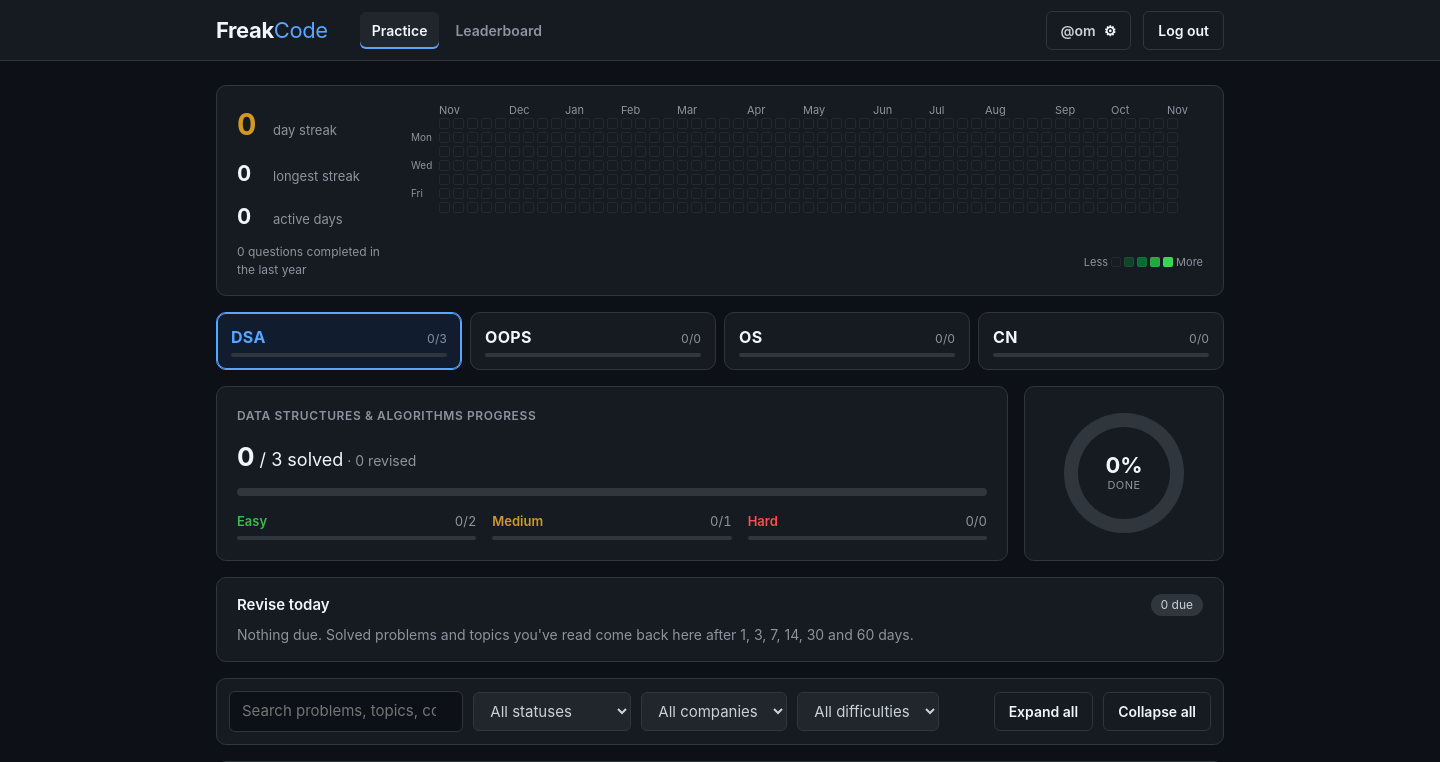
it: search narrows the list and expands matching topics
In the search field with placeholder "Search problems, topics, companies…": [346, 711] box [229, 691, 463, 732], type "apple"
(page scrolled)
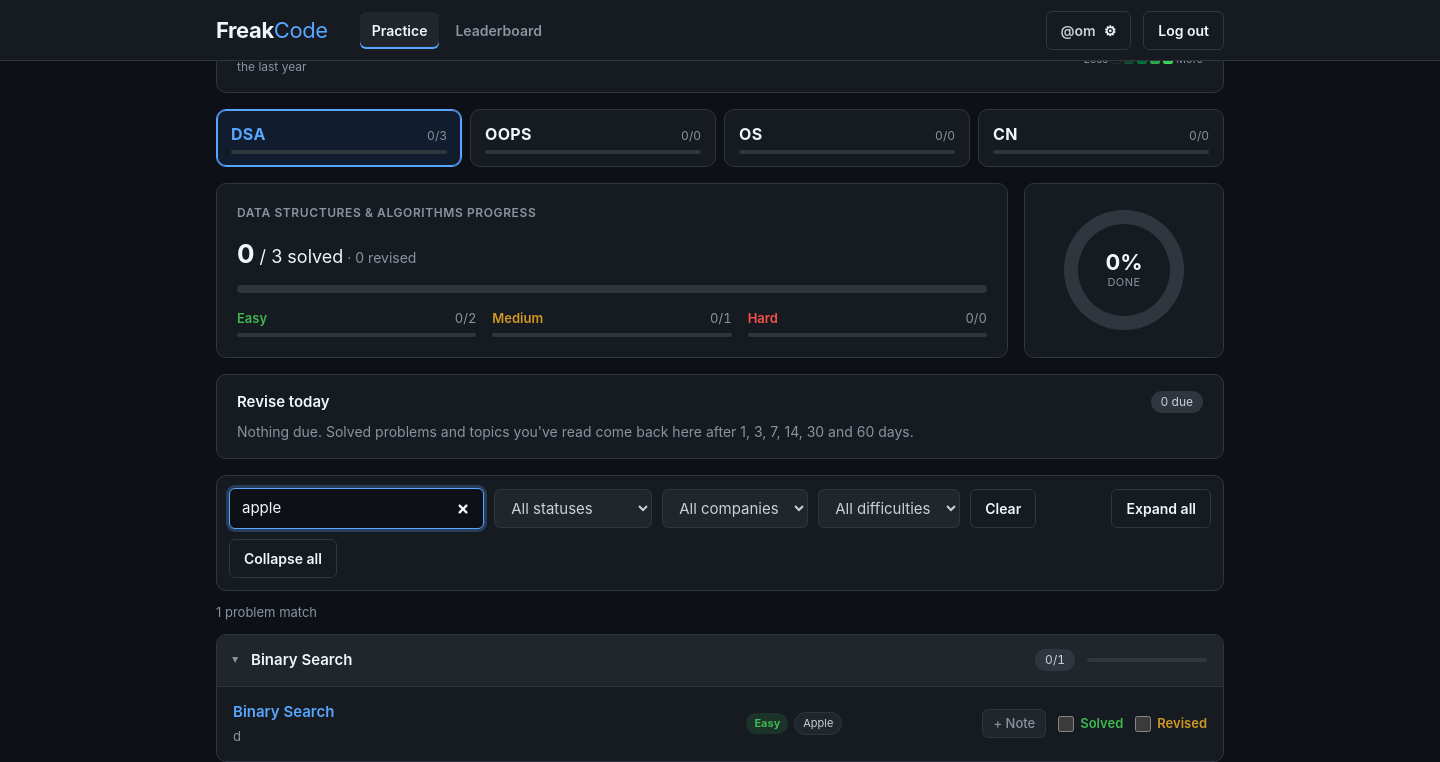
expect the link "Binary Search" is shown: met, box [233, 702, 334, 720]
expect the text "1 problem match" is shown: met, box [216, 604, 317, 620]
